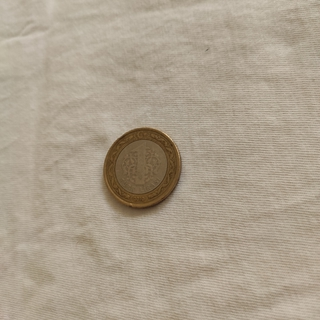1TL: (102, 125, 183, 210)
